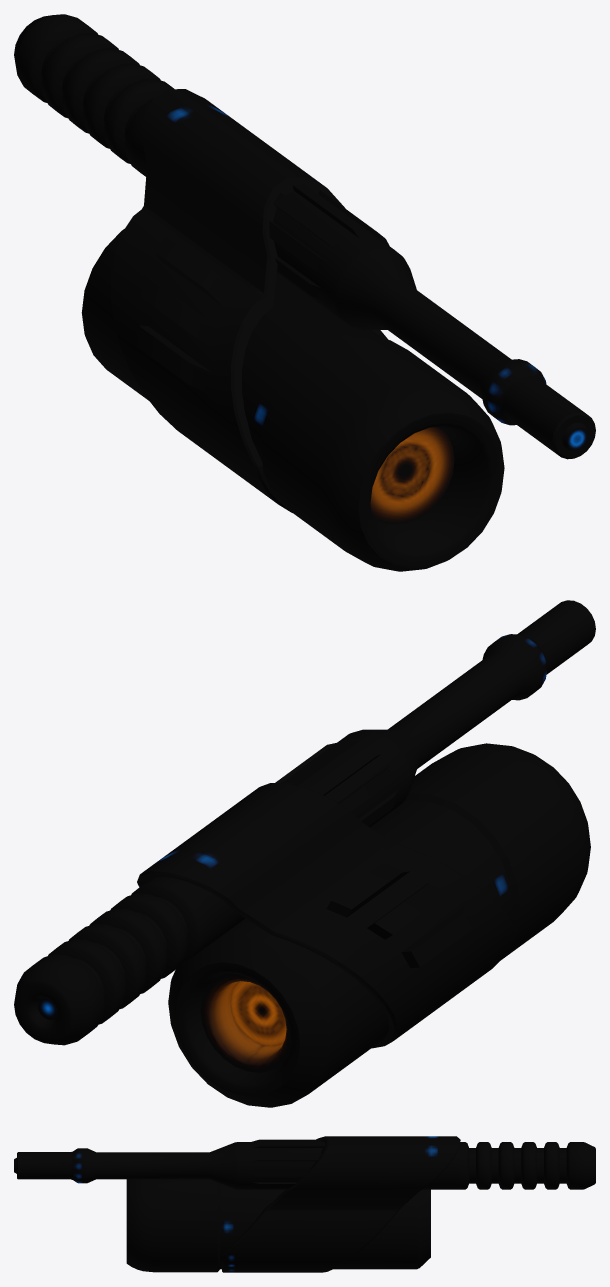
Rendered from SM_R_Engine_5.fbx.
3 views of the same model, one above another, from view 1: azimuth 30°, elevation 25°; view 2: azimuth 150°, elevation 25°; view 3: azimuth 270°, elevation 25° (orthographic). The views are drawn at different scales.
Parts seen in each view (by area): view 1: SM_R_Engine_5; view 2: SM_R_Engine_5; view 3: SM_R_Engine_5.
Part boxes in pixels (<box>): SM_R_Engine_5: <box>14,14,595,571</box>; SM_R_Engine_5: <box>14,600,595,1107</box>; SM_R_Engine_5: <box>14,1136,595,1272</box>.
Bounding box in the file's own units: 31.36 × 40.87 × 154.
